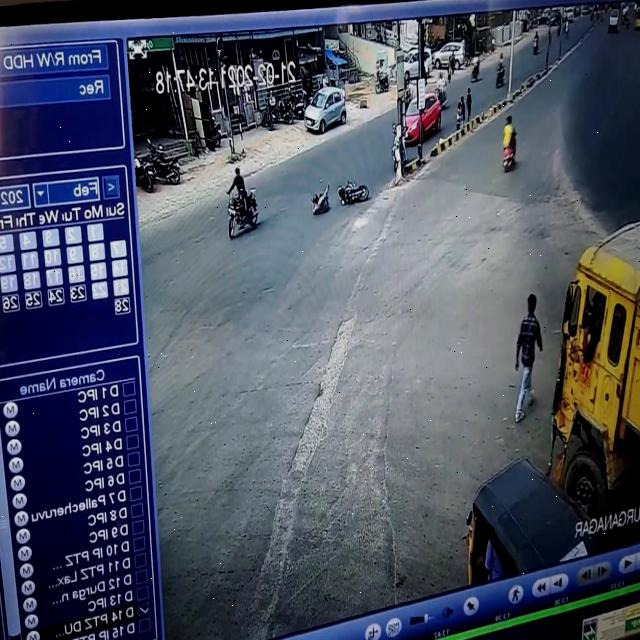accident: (307, 171, 375, 224)
